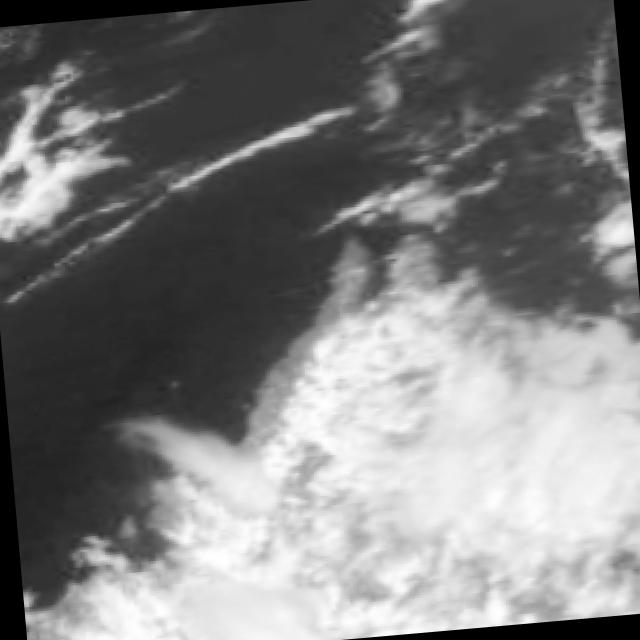CB: (321, 362, 640, 639), (218, 461, 447, 640)
